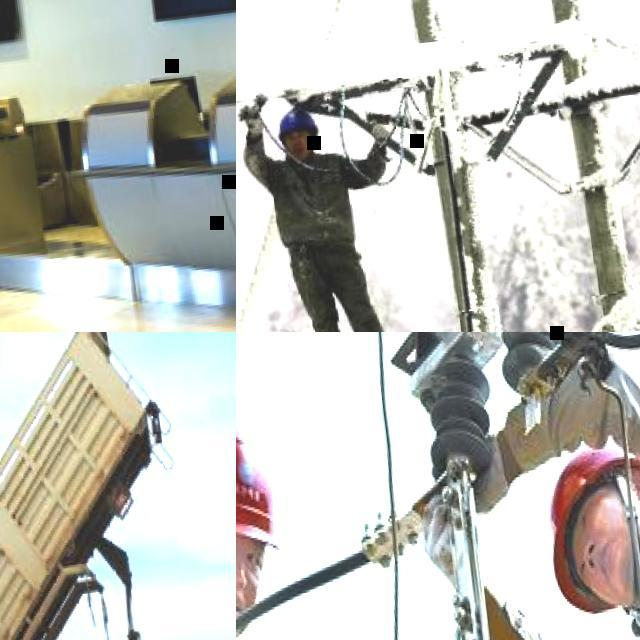helmet: (538, 437, 640, 617), (236, 410, 280, 561), (273, 104, 322, 142)
